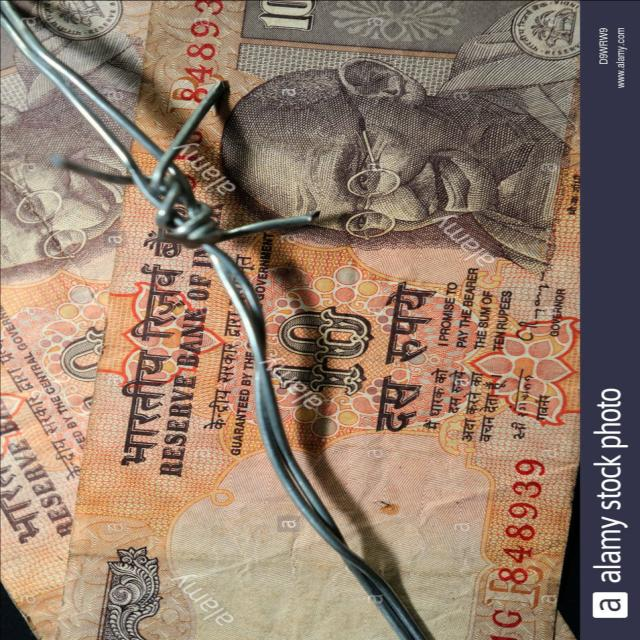10IndianRupees: (88, 0, 580, 640)
